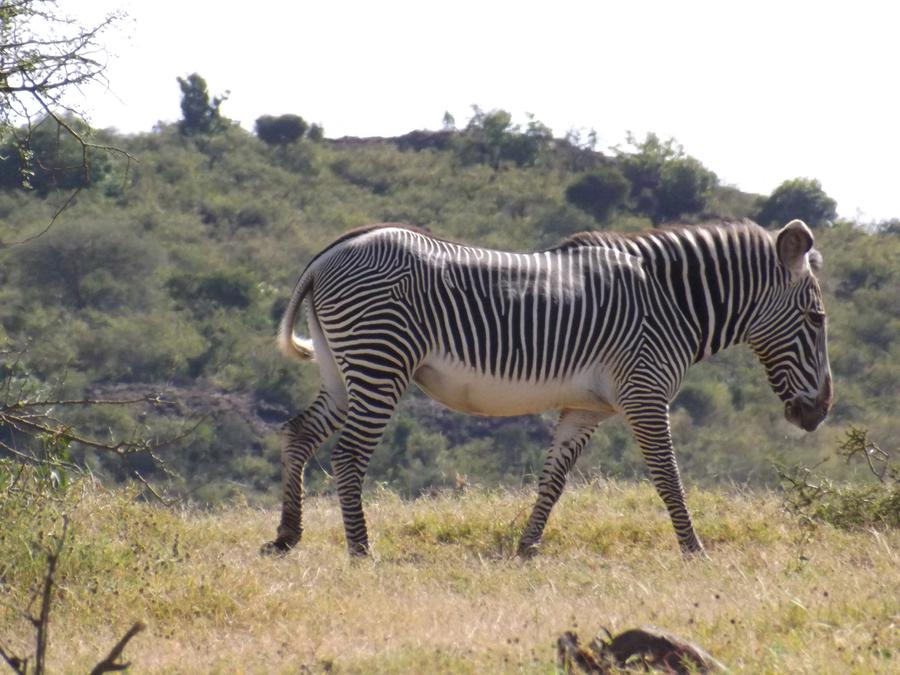zebra_grevys: (270, 227, 685, 400)
